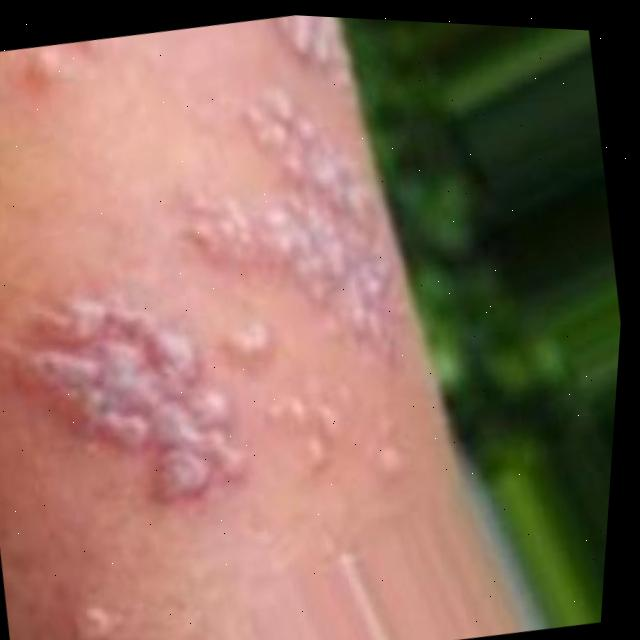Shingles: (0, 0, 444, 542)
